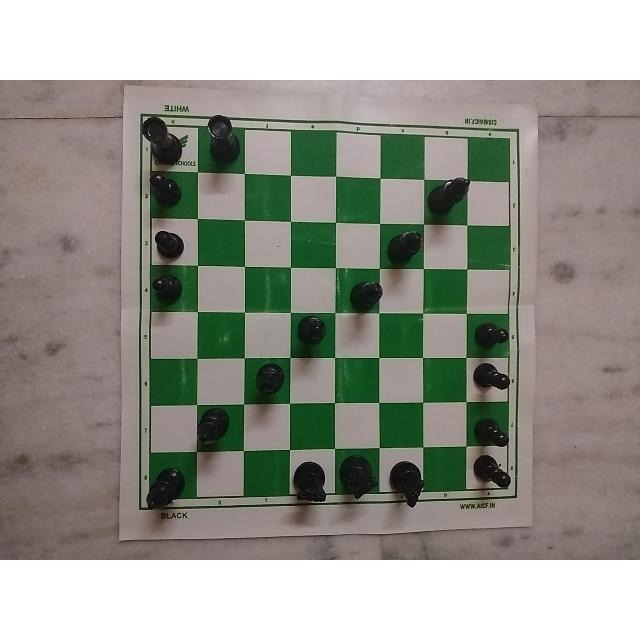black-bishop: (134, 458, 190, 514), (191, 399, 235, 459), (247, 357, 295, 403), (423, 171, 470, 215), (383, 223, 426, 269), (349, 266, 393, 310), (293, 312, 329, 364)
black-knight: (386, 451, 426, 519), (334, 449, 379, 505), (287, 455, 328, 511)
black-pawn: (467, 451, 521, 501), (136, 170, 188, 215), (469, 357, 513, 401), (143, 269, 189, 310), (145, 225, 193, 260), (468, 413, 512, 451), (473, 320, 511, 355)
black-rook: (201, 106, 249, 169), (132, 114, 184, 164)
